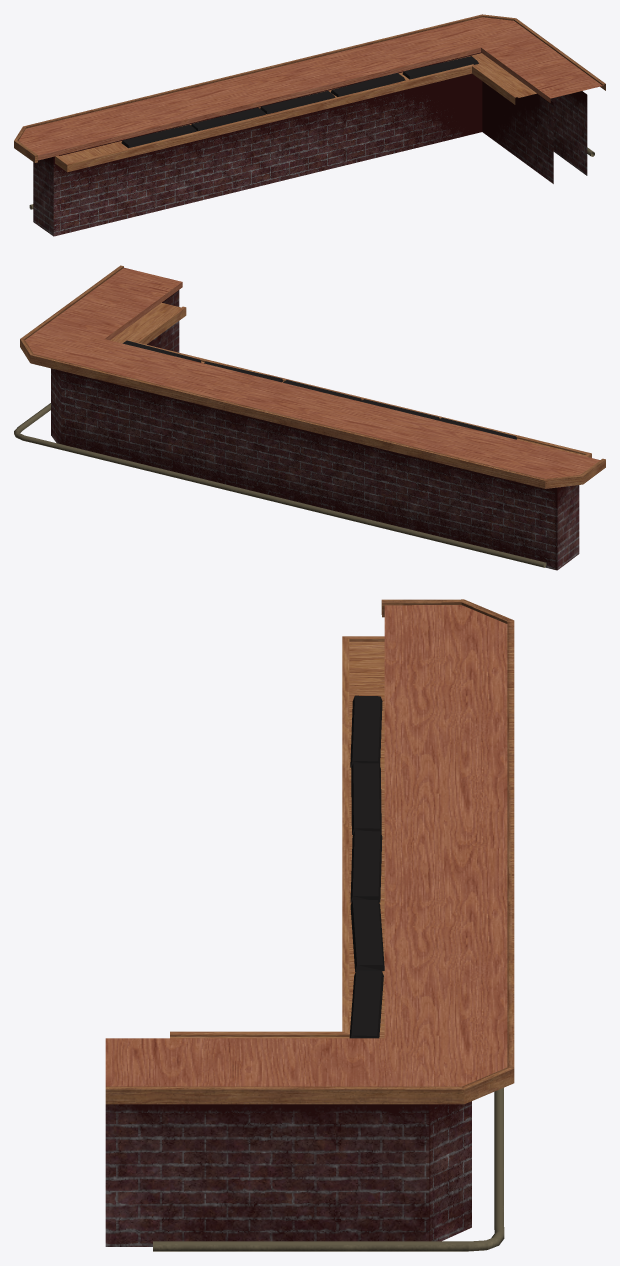
The model's file is testmodel.gltf.
The picture shows the model from 3 angles, top to bottom: view 1: azimuth 30°, elevation 25°; view 2: azimuth 150°, elevation 25°; view 3: azimuth 270°, elevation 25°; orthographic projection. The views are drawn at different scales.
Parts seen in each view (by area): view 1: Doms_Bar_Ceiling.019; view 2: Doms_Bar_Ceiling.019; view 3: Doms_Bar_Ceiling.019.
Boxes of the visible parts, bbox=[...] form: Doms_Bar_Ceiling.019: bbox=[14, 14, 605, 236]; Doms_Bar_Ceiling.019: bbox=[14, 265, 605, 570]; Doms_Bar_Ceiling.019: bbox=[105, 599, 514, 1251].
Bounding box in the file's own units: 7.01 × 1.17 × 2.46.
1 material, 1 textured.
